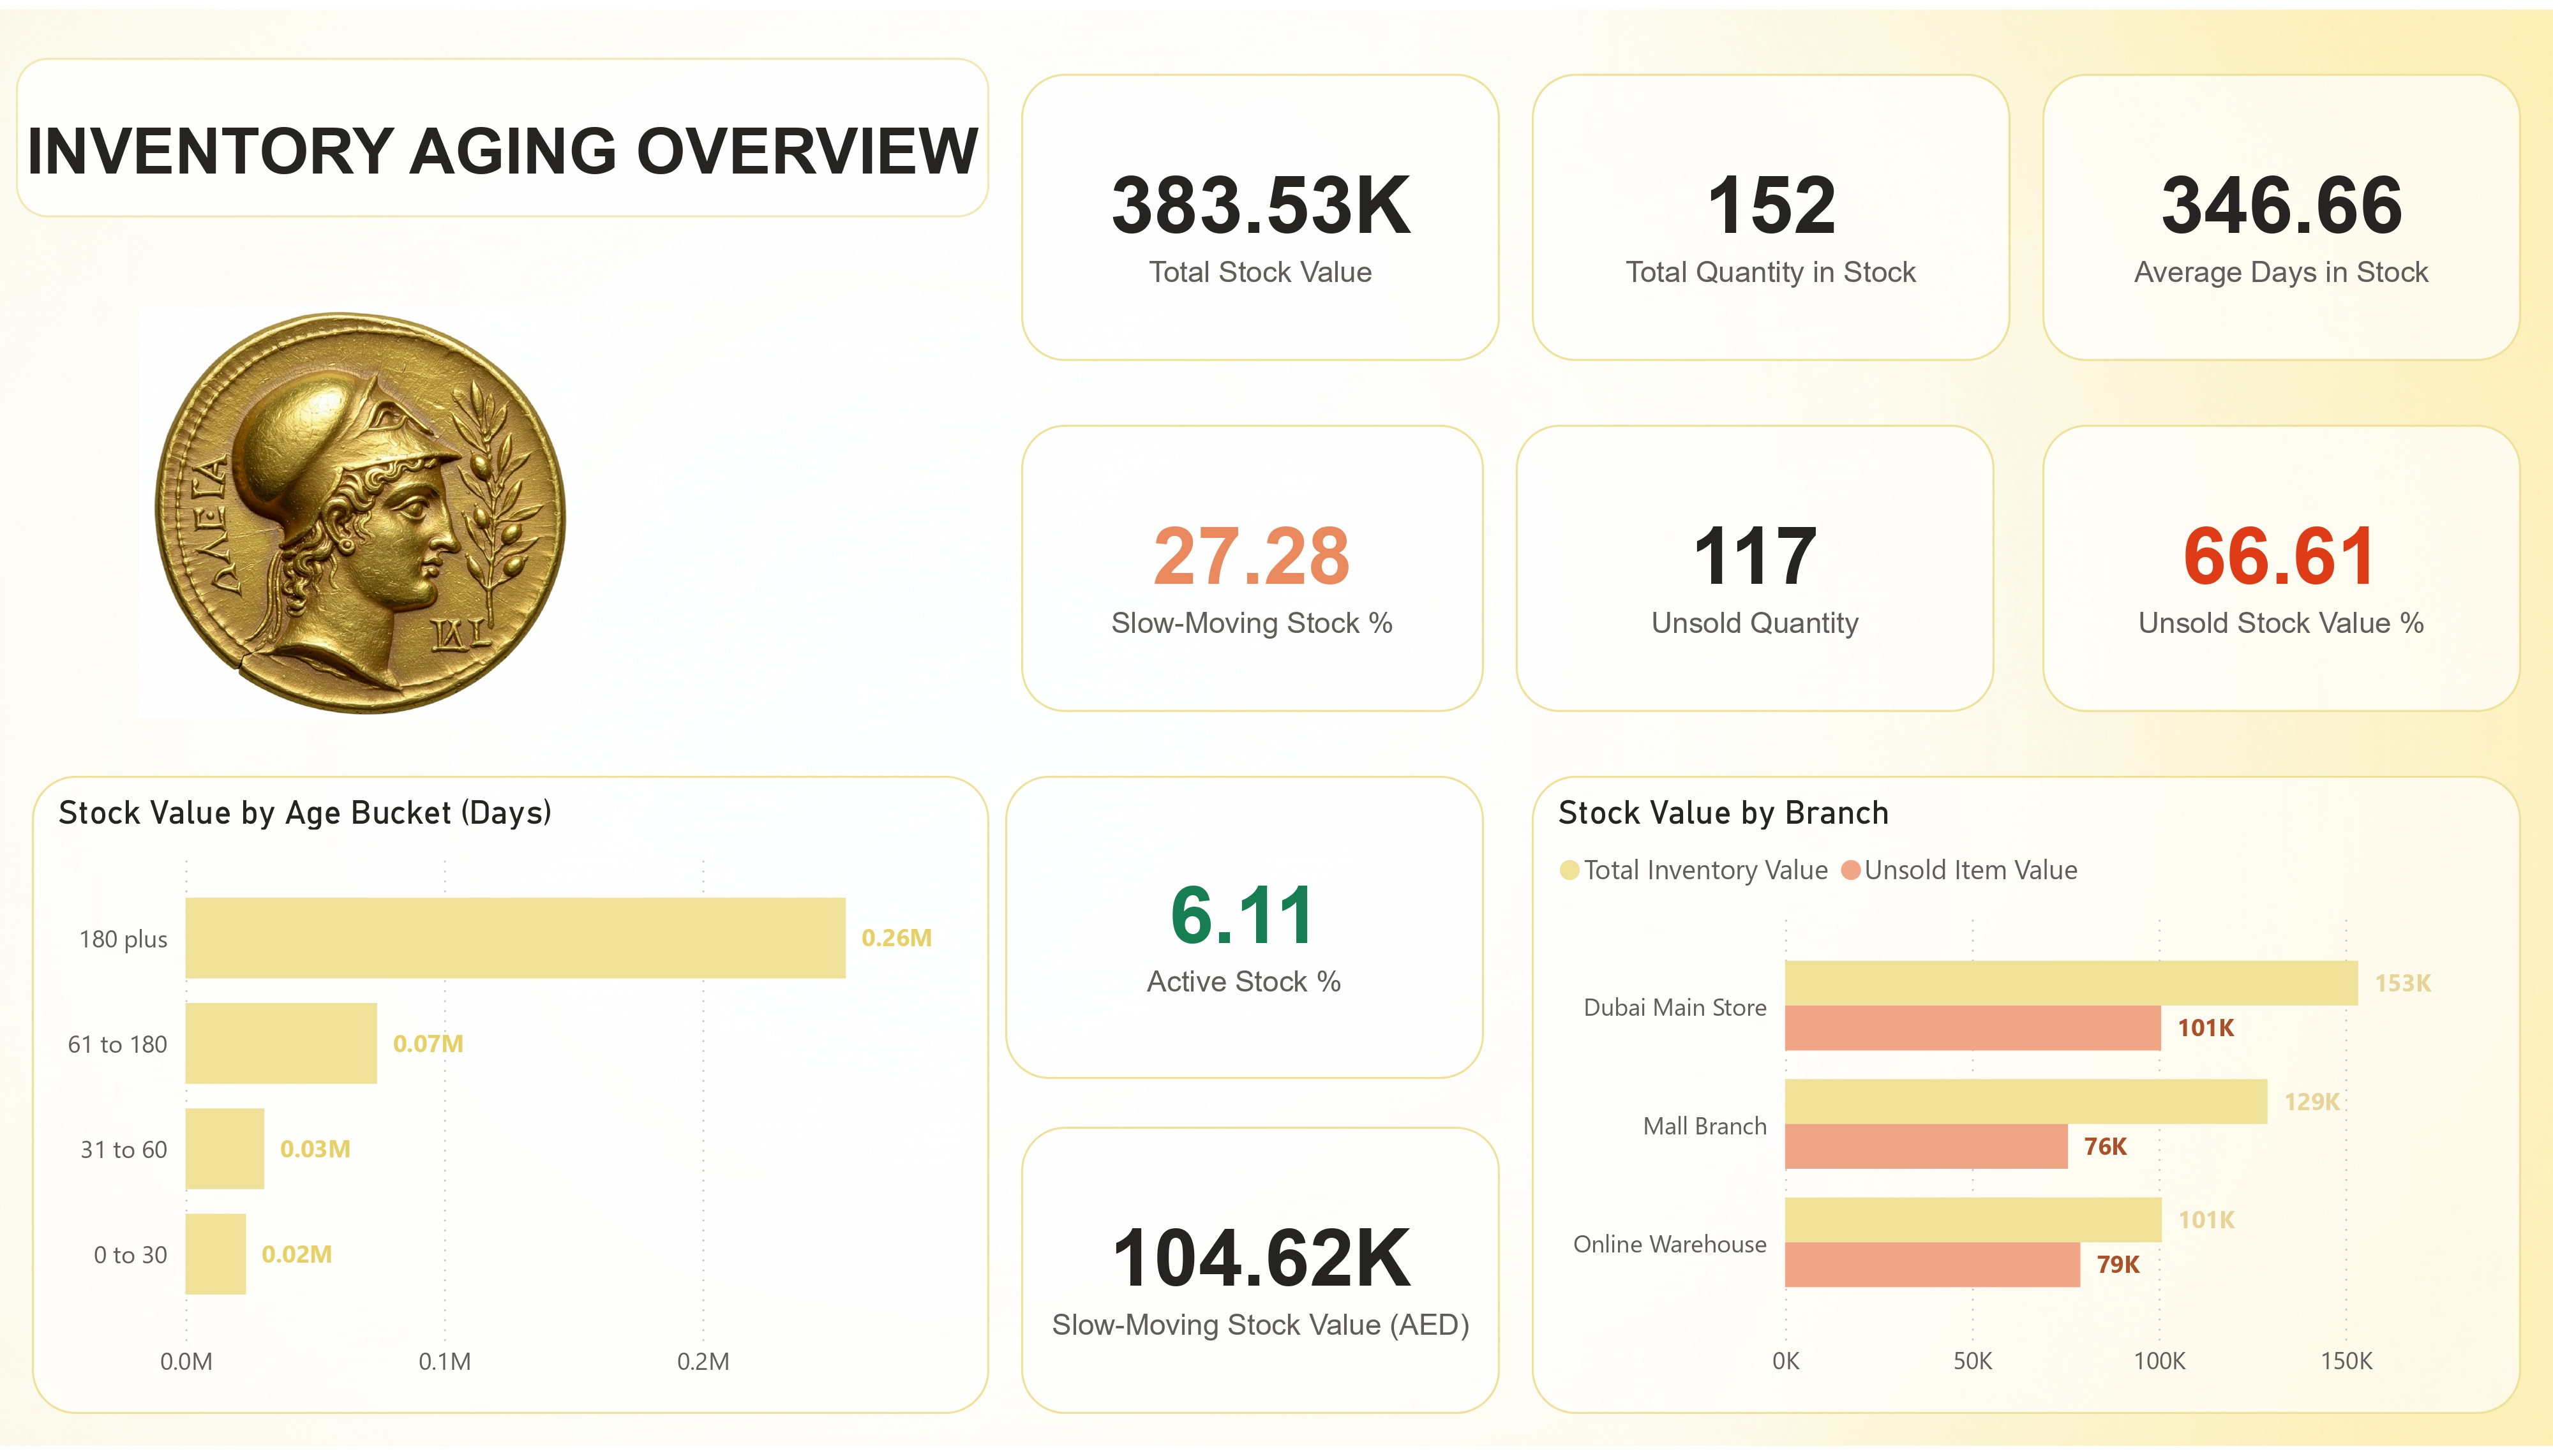

The dashboard page shown, as its layout file describes it:
{"tool":"powerbi","page":{"name":"Overview","canvas":[1280,720],"ordinal":0},"visuals":[{"type":"shape","box":[8,24,488,80],"z":0},{"type":"textbox","box":[8,48,536,80],"z":1000},{"type":"card","fields":{"Values":["KeyMeasures.Total Inventory Value"]},"box":[512,32,240,144],"z":2000},{"type":"card","fields":{"Values":["KeyMeasures.Average Days in Stock"]},"box":[1024,32,240,144],"z":3000},{"type":"card","fields":{"Values":["KeyMeasures.Unsolved Value %"]},"box":[1024,208,240,144],"z":4000},{"type":"card","fields":{"Values":["KeyMeasures.Active Item %"]},"box":[504,384,240,152],"z":5000},{"type":"card","fields":{"Values":["KeyMeasures.Unsold Quantity"]},"box":[760,208,240,144],"z":6000},{"type":"card","fields":{"Values":["KeyMeasures.Total Inventory Quantity"]},"box":[768,32,240,144],"z":7000},{"type":"card","fields":{"Values":["KeyMeasures.Slow Moving Value"]},"box":[512,560,240,144],"z":8000},{"type":"card","fields":{"Values":["KeyMeasures.Slow Moving Item Value %"]},"box":[512,208,232,144],"z":9000},{"type":"clusteredBarChart","title":"Stock Value by Branch","fields":{"Category":["Inventory.Branch Location"],"Y":["Sum(Inventory.Total Value AED)","KeyMeasures.Unsold Value AED"]},"box":[768,384,496,320],"z":10000},{"type":"image","box":[8,144,344,216],"z":11000},{"type":"clusteredBarChart","title":"Stock Value by Age Bucket (Days)","fields":{"Category":["Inventory.Age Bucket"],"Y":["Sum(Inventory.Total Value AED)"]},"box":[16,384,480,320],"z":12000}]}

Visuals, with their boxes in screenshot pixels (x1, y1, x2, y2), scaled from the page's 1280x720 canvas onto the 2553x1456 screenshot:
shape: l=16, t=48, r=989, b=211
textbox: l=16, t=97, r=1085, b=259
card - KeyMeasures.Total Inventory Value: l=1021, t=64, r=1500, b=356
card - KeyMeasures.Average Days in Stock: l=2042, t=64, r=2521, b=356
card - KeyMeasures.Unsolved Value %: l=2042, t=420, r=2521, b=712
card - KeyMeasures.Active Item %: l=1005, t=776, r=1484, b=1084
card - KeyMeasures.Unsold Quantity: l=1516, t=420, r=1995, b=712
card - KeyMeasures.Total Inventory Quantity: l=1532, t=64, r=2010, b=356
card - KeyMeasures.Slow Moving Value: l=1021, t=1133, r=1500, b=1423
card - KeyMeasures.Slow Moving Item Value %: l=1021, t=420, r=1484, b=712
"Stock Value by Branch" clusteredBarChart: l=1532, t=776, r=2521, b=1423
image: l=16, t=291, r=702, b=728
"Stock Value by Age Bucket (Days)" clusteredBarChart: l=32, t=776, r=989, b=1423
